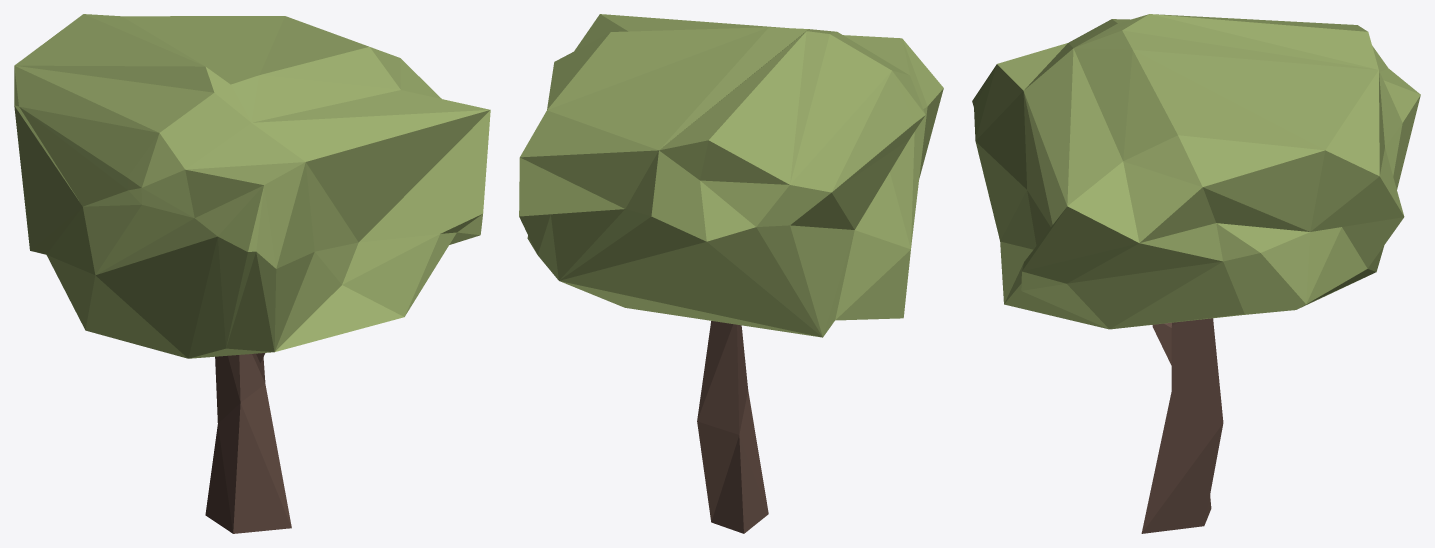
File: arbre_v2.fbx
3 renders of one model, left to right at view 1: azimuth 30°, elevation 25°; view 2: azimuth 150°, elevation 25°; view 3: azimuth 270°, elevation 25°, orthographic.
Visible parts, largest first — view 1: Arbre_v2; view 2: Arbre_v2; view 3: Arbre_v2.
Part boxes in pixels (x1,y1,x2,y2): Arbre_v2: (14,14,490,533); Arbre_v2: (519,14,943,533); Arbre_v2: (972,14,1420,533).
Bounding box in the file's own units: 199 × 255 × 216.
